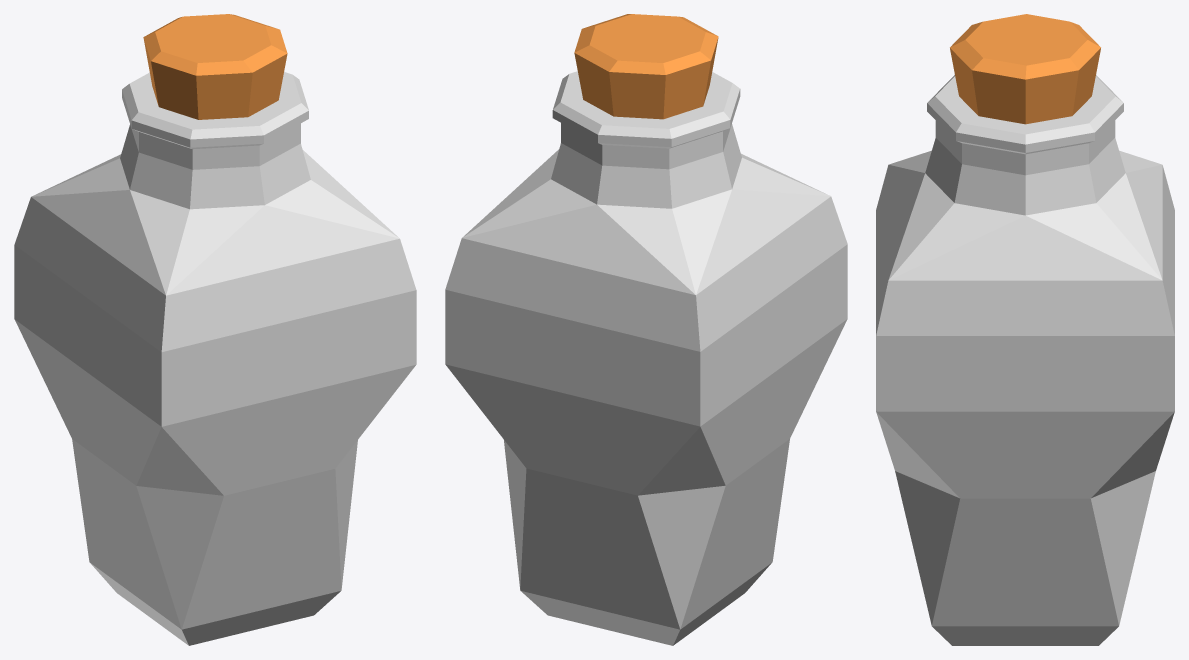
The model's file is Potion4.fbx.
3 renders of one model, left to right at view 1: azimuth 30°, elevation 25°; view 2: azimuth 150°, elevation 25°; view 3: azimuth 270°, elevation 25°, orthographic.
Parts seen in each view (by area): view 1: Flask, Cork; view 2: Flask, Cork; view 3: Flask, Cork.
Boxes of the visible parts, <box> form: Flask: <box>14,72,416,645</box>; Cork: <box>143,14,287,119</box>; Flask: <box>445,71,847,645</box>; Cork: <box>574,14,718,119</box>; Flask: <box>876,75,1174,645</box>; Cork: <box>950,14,1100,124</box>.
Size of the model in its own units: 194 by 411 by 194.
